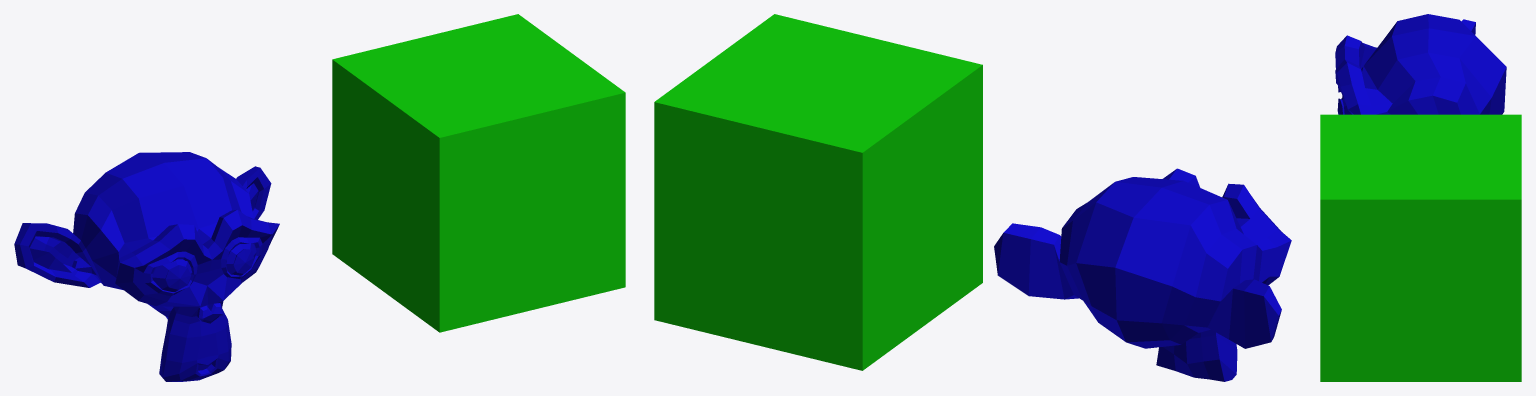
Rendered from Monkey.obj.
3 views of the same model, side by side, from view 1: azimuth 30°, elevation 25°; view 2: azimuth 150°, elevation 25°; view 3: azimuth 270°, elevation 25° (orthographic). The views are drawn at different scales.
Visible parts, largest first — view 1: Cube, Suzanne; view 2: Cube, Suzanne; view 3: Cube, Suzanne.
Part boxes in pixels (box(x1,y1,x2,y2)): Cube: box(332, 14, 625, 332); Suzanne: box(14, 152, 279, 381); Cube: box(654, 14, 982, 370); Suzanne: box(994, 168, 1291, 381); Cube: box(1320, 114, 1521, 381); Suzanne: box(1335, 14, 1506, 114).
Size of what is drawn, in the model's own units: 5.71 by 2.11 by 2.
